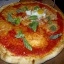basil: (11, 32, 34, 51), (5, 13, 23, 25), (12, 6, 35, 14), (27, 20, 41, 32)
pizza: (1, 1, 64, 64)
